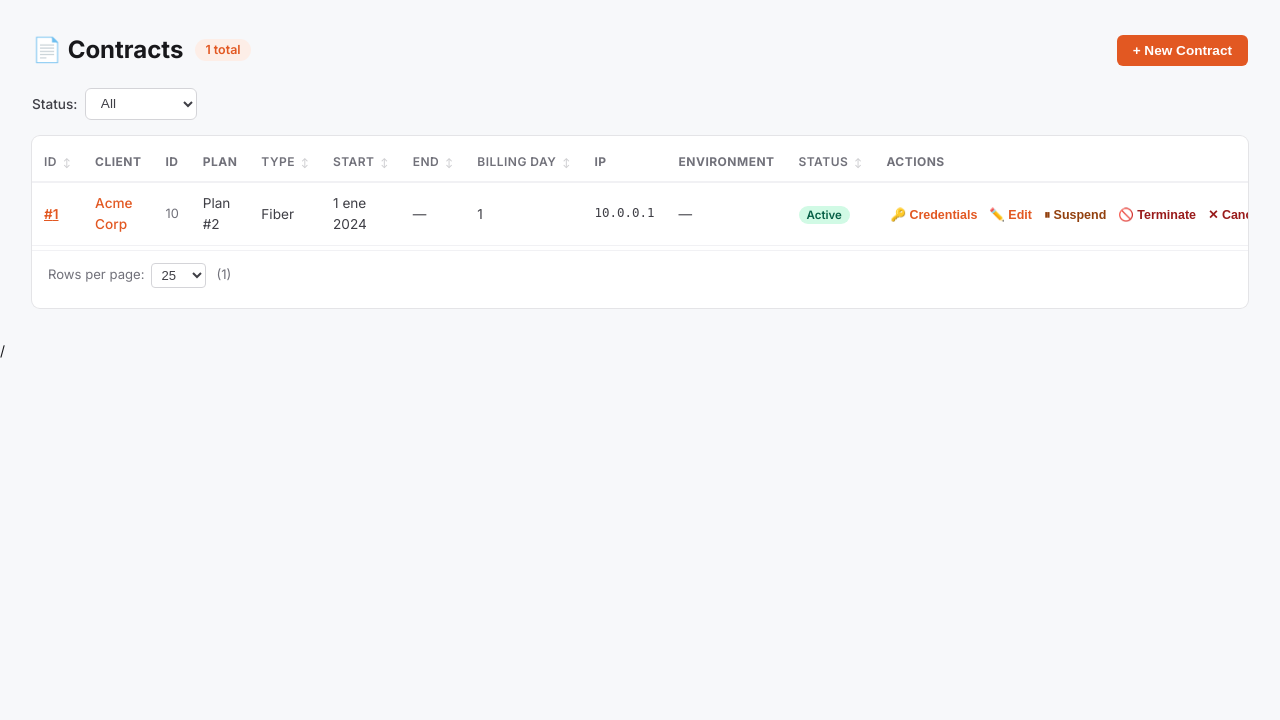
it: ContractList page › Edit Contract modal — escalation toggles (migration 387) › respects an explicit escalation_enabled: false on the contract
Expected: the text "10.0.0.1" is shown, [582, 182, 667, 245]
Step 1. Click the button "✏️ Edit" → [1011, 214], box [985, 204, 1036, 224]
(page scrolled)
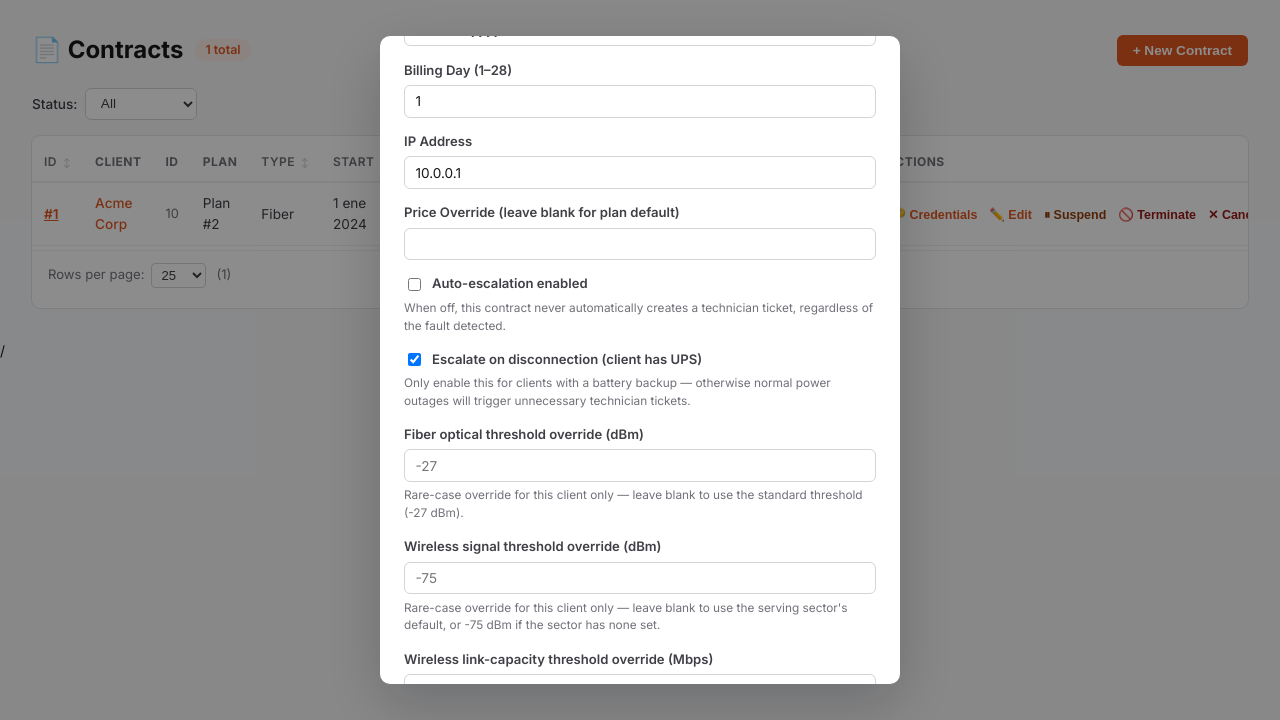
Expected: the checkbox labelled "Auto-escalation enabled" is not checked, [408, 278, 421, 291]
Expected: the checkbox labelled "Escalate on disconnection (client has UPS)" is checked, [408, 353, 421, 366]
